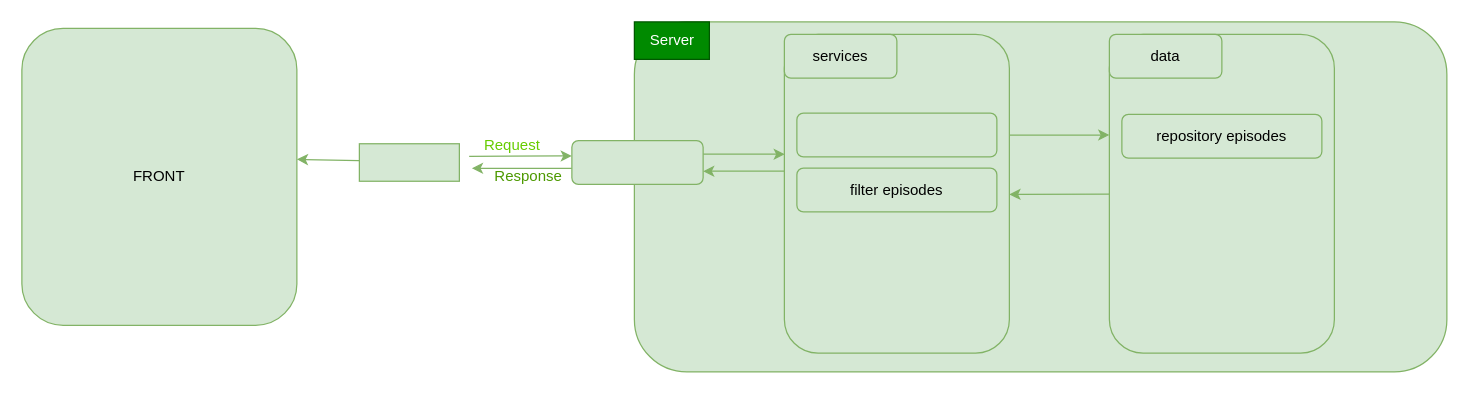
This 1469x394 diagram has some shape labels left out. Each missing label, with the box of its shape:
list episodes: (796, 112, 997, 157)
podcast Controller: (571, 139, 703, 184)
port: 3333: (358, 142, 459, 181)
